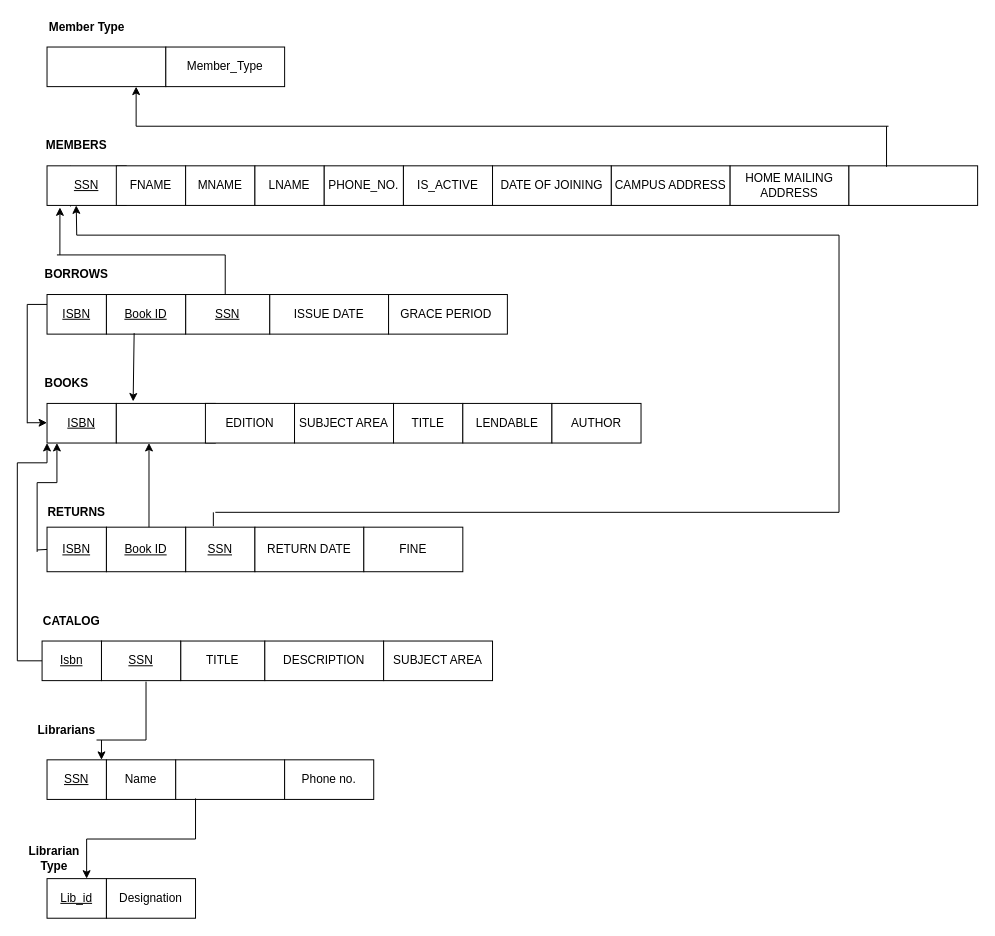
Some shapes in this 995 by 936 pixel diagram are drawn without their labels. Here are the shapes that lost their labels. From the top down, the centre of each, then its label:
At [106,66]: "Members_ID".
At [913,185]: "Member Type_id".
At [165,422]: "BOOK_ID".
At [230,779]: "Librarian_Type_ID".
